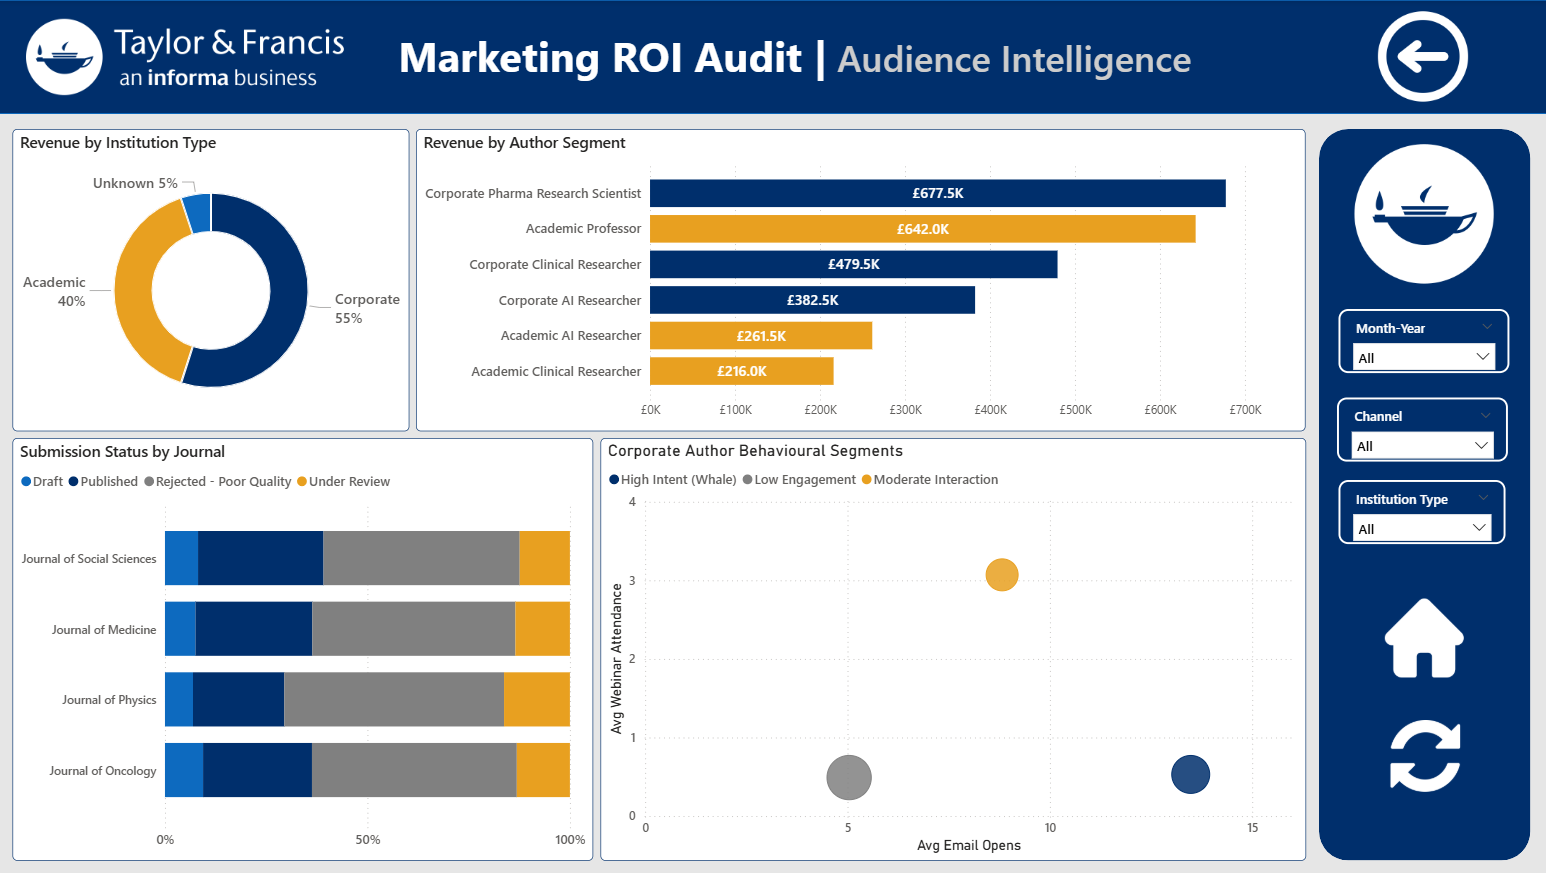

The dashboard page shown, as its layout file describes it:
{"tool":"powerbi","page":{"name":" Audience Intelligence ","canvas":[1600,900],"ordinal":2},"visuals":[{"type":"shape","box":[0,0,1599.4,117.4],"z":0},{"type":"shape","box":[1359,132.5,217.7,753.3],"z":1000},{"type":"slicer","fields":{"Values":["interactions.channel"]},"box":[1377.9,408.8,176,66.2],"z":2000},{"type":"slicer","fields":{"Values":["Date_Table.Month-Year"]},"box":[1379.8,318,176,66.2],"z":3000},{"type":"slicer","fields":{"Values":["authors.institution_type"]},"box":[1379.8,494,172.2,66.2],"z":4000},{"type":"donutChart","title":"Revenue by Institution Type","fields":{"Category":["authors.institution_type"],"Y":["_Measures.Total Revenue"]},"box":[13.2,132.5,408.8,311],"z":5000},{"type":"clusteredBarChart","title":"Revenue by Author Segment","fields":{"Category":["authors.Segment"],"Y":["_Measures.Total Revenue"]},"box":[429.7,132.5,916.1,311],"z":6000},{"type":"hundredPercentStackedBarChart","title":"Submission Status by Journal","fields":{"Category":["submissions.journal_name"],"Y":["CountNonNull(submissions.submission_id)"],"Series":["submissions.status"]},"box":[13.2,450.5,598,435.3],"z":7000},{"type":"scatterChart","title":"Corporate Author Behavioural Segments","fields":{"X":["Sum(Cluster_Segments.Avg Email Opens)"],"Y":["Sum(Cluster_Segments.Avg Webinar Attendance)"],"Size":["Sum(Cluster_Segments.Total Users)"],"Series":["Cluster_Segments.Cluster Label"]},"box":[618.9,450.5,726.8,435.3],"z":8000},{"type":"image","box":[1377.9,147.6,181.7,143.8],"z":9000},{"type":"textbox","box":[406.9,22.7,844.2,71.9],"z":10000},{"type":"image","box":[28.4,0,327.4,117.4],"z":11000},{"type":"image","box":[1421.5,617,92.7,81.4],"z":12000},{"type":"image","box":[1412,742,113.6,73.8],"z":13000},{"type":"image","box":[1391.2,11.4,149.5,94.6],"z":14000}]}

Visuals, with their boxes in screenshot pixels (x1, y1, x2, y2), scaled from the page's 1600x900 canvas onto the 1546x873 screenshot:
shape: crop(0, 0, 1545, 114)
shape: crop(1313, 129, 1523, 859)
slicer - interactions.channel: crop(1331, 397, 1501, 461)
slicer - Date_Table.Month-Year: crop(1333, 308, 1503, 373)
slicer - authors.institution_type: crop(1333, 479, 1500, 543)
"Revenue by Institution Type" donutChart: crop(13, 129, 408, 430)
"Revenue by Author Segment" clusteredBarChart: crop(415, 129, 1300, 430)
"Submission Status by Journal" hundredPercentStackedBarChart: crop(13, 437, 591, 859)
"Corporate Author Behavioural Segments" scatterChart: crop(598, 437, 1300, 859)
image: crop(1331, 143, 1507, 283)
textbox: crop(393, 22, 1209, 92)
image: crop(27, 0, 344, 114)
image: crop(1374, 598, 1463, 677)
image: crop(1364, 720, 1474, 791)
image: crop(1344, 11, 1489, 103)
